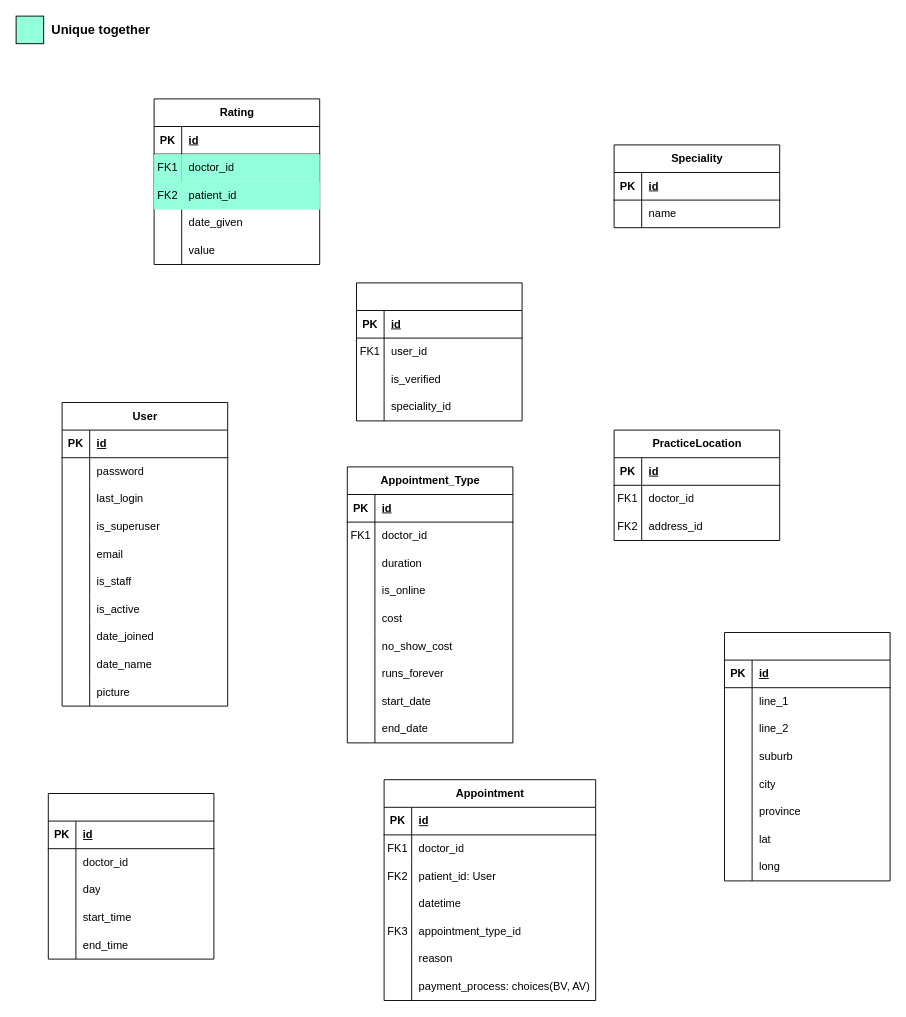
The diagram is 906 pixels wide and 1017 high, and some of its shapes have lost their labels. Here are the shapes that lost their labels. From the top down, the box of each, then its label:
(356, 282, 522, 421): Doctor
(724, 632, 890, 881): Address
(47, 793, 214, 959): TimeSlot
